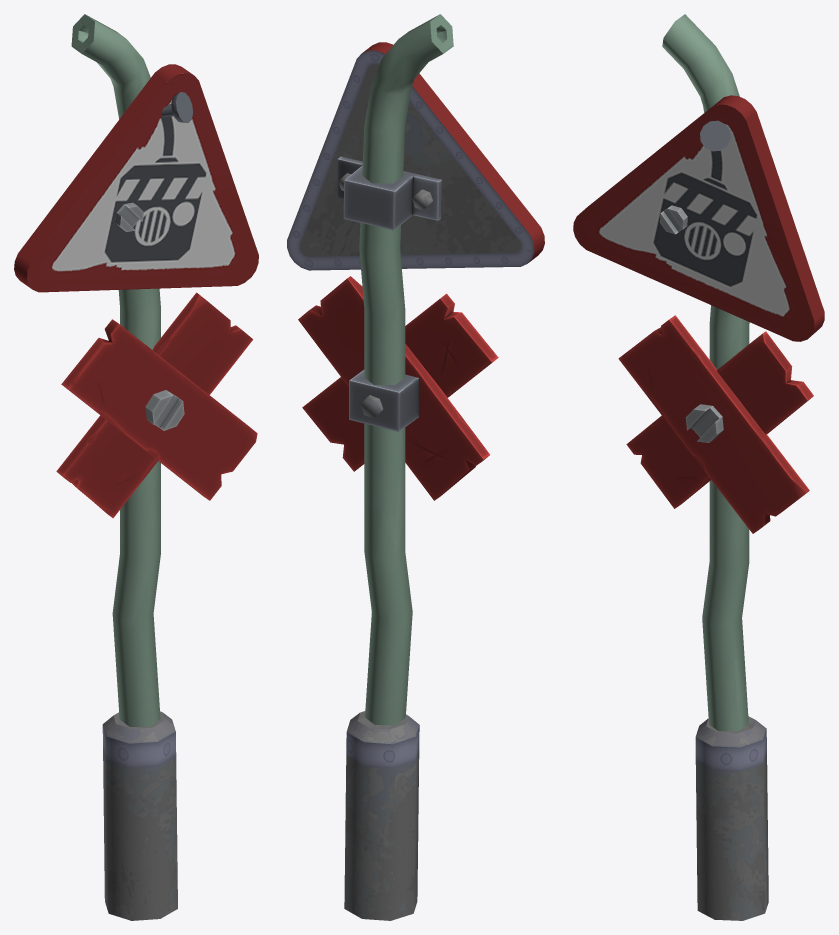
The model's file is env_hideout_hideoutsign06.fbx.
The picture shows the model from 3 angles, left to right: view 1: azimuth 30°, elevation 25°; view 2: azimuth 150°, elevation 25°; view 3: azimuth 330°, elevation 25°; orthographic projection. The views are drawn at different scales.
Parts seen in each view (by area): view 1: env_hideout_hideoutsign06; view 2: env_hideout_hideoutsign06; view 3: env_hideout_hideoutsign06.
Part boxes in pixels (left/top/right/bottom): env_hideout_hideoutsign06: left=14, top=14, right=258, bottom=920; env_hideout_hideoutsign06: left=287, top=14, right=544, bottom=920; env_hideout_hideoutsign06: left=573, top=14, right=824, bottom=920.
Size of the model in its own units: 6.96 by 24.86 by 2.74.
1 material, 1 textured.
